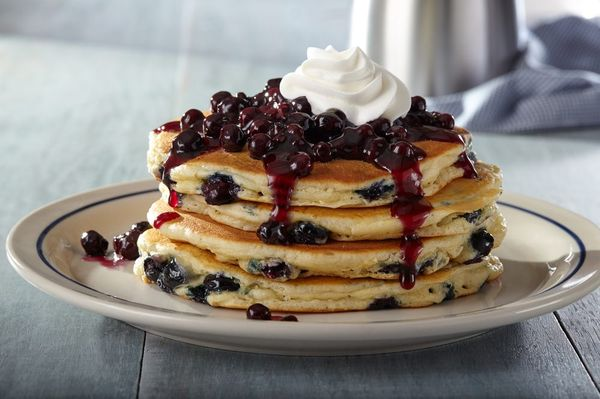soup: (132, 46, 510, 316)
